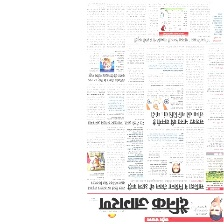news_paper: (84, 1, 223, 223)
